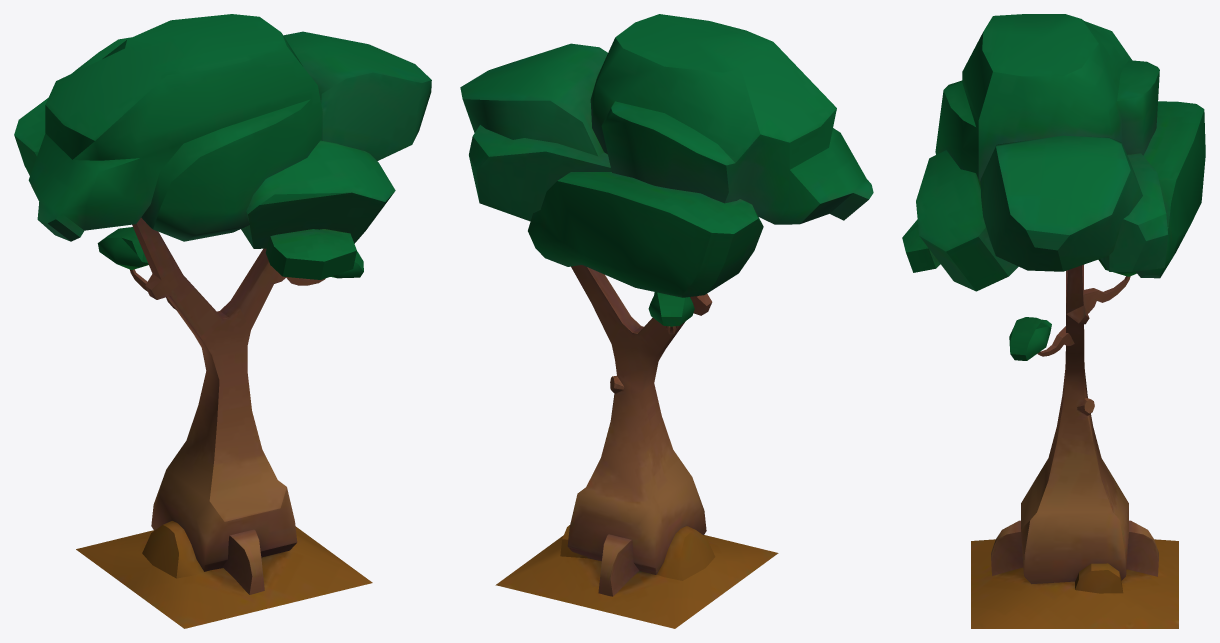
Rendered from FOL_Foliage_02.obj.
3 views of the same model, side by side, from view 1: azimuth 30°, elevation 25°; view 2: azimuth 150°, elevation 25°; view 3: azimuth 270°, elevation 25° (orthographic). The views are drawn at different scales.
Parts seen in each view (by area): view 1: FOL_Foliage_02; view 2: FOL_Foliage_02; view 3: FOL_Foliage_02.
Boxes of the visible parts, x1=… form: FOL_Foliage_02: x1=14, y1=14, x2=431, y2=628; FOL_Foliage_02: x1=460, y1=14, x2=873, y2=628; FOL_Foliage_02: x1=902, y1=14, x2=1205, y2=628.
Bounding box in the file's own units: 2.57 × 3.36 × 1.75.
1 material, 1 textured.
